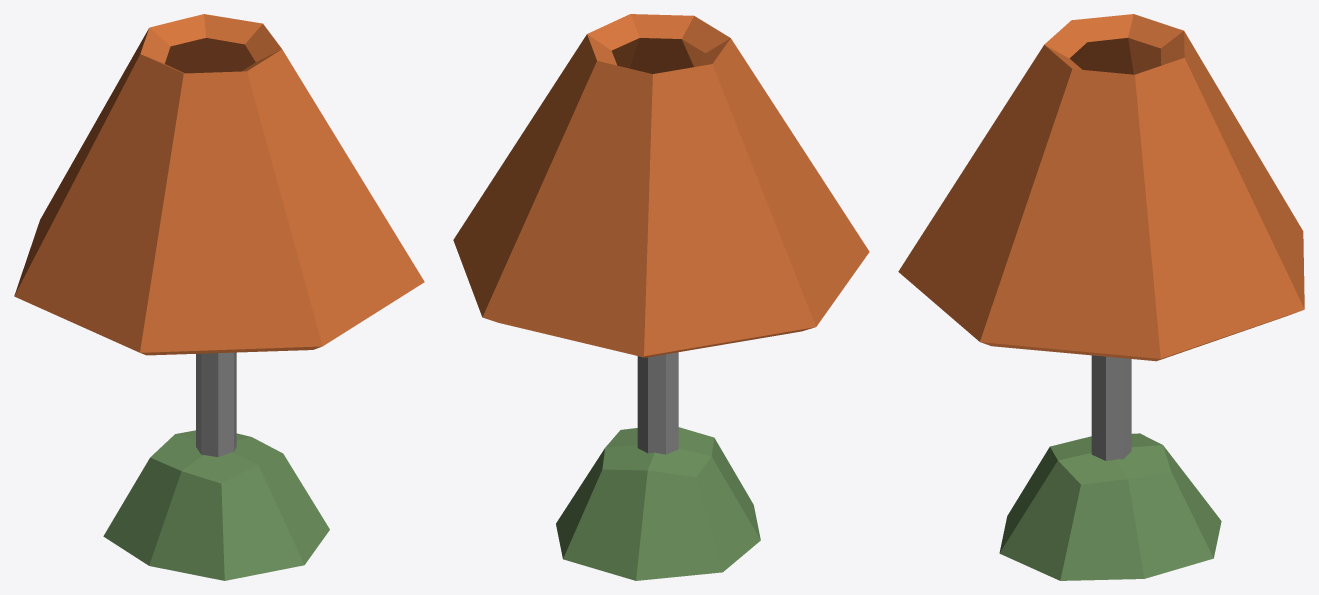
File: Lamp00.fbx
3 renders of one model, left to right at view 1: azimuth 30°, elevation 25°; view 2: azimuth 150°, elevation 25°; view 3: azimuth 270°, elevation 25°, orthographic.
Parts seen in each view (by area): view 1: Cube; view 2: Cube; view 3: Cube.
Part boxes in pixels (x1,y1,x2,y2): Cube: [14, 14, 424, 580]; Cube: [453, 14, 869, 580]; Cube: [898, 14, 1304, 580].
Bounding box in the file's own units: 76.65 × 100 × 74.86.
